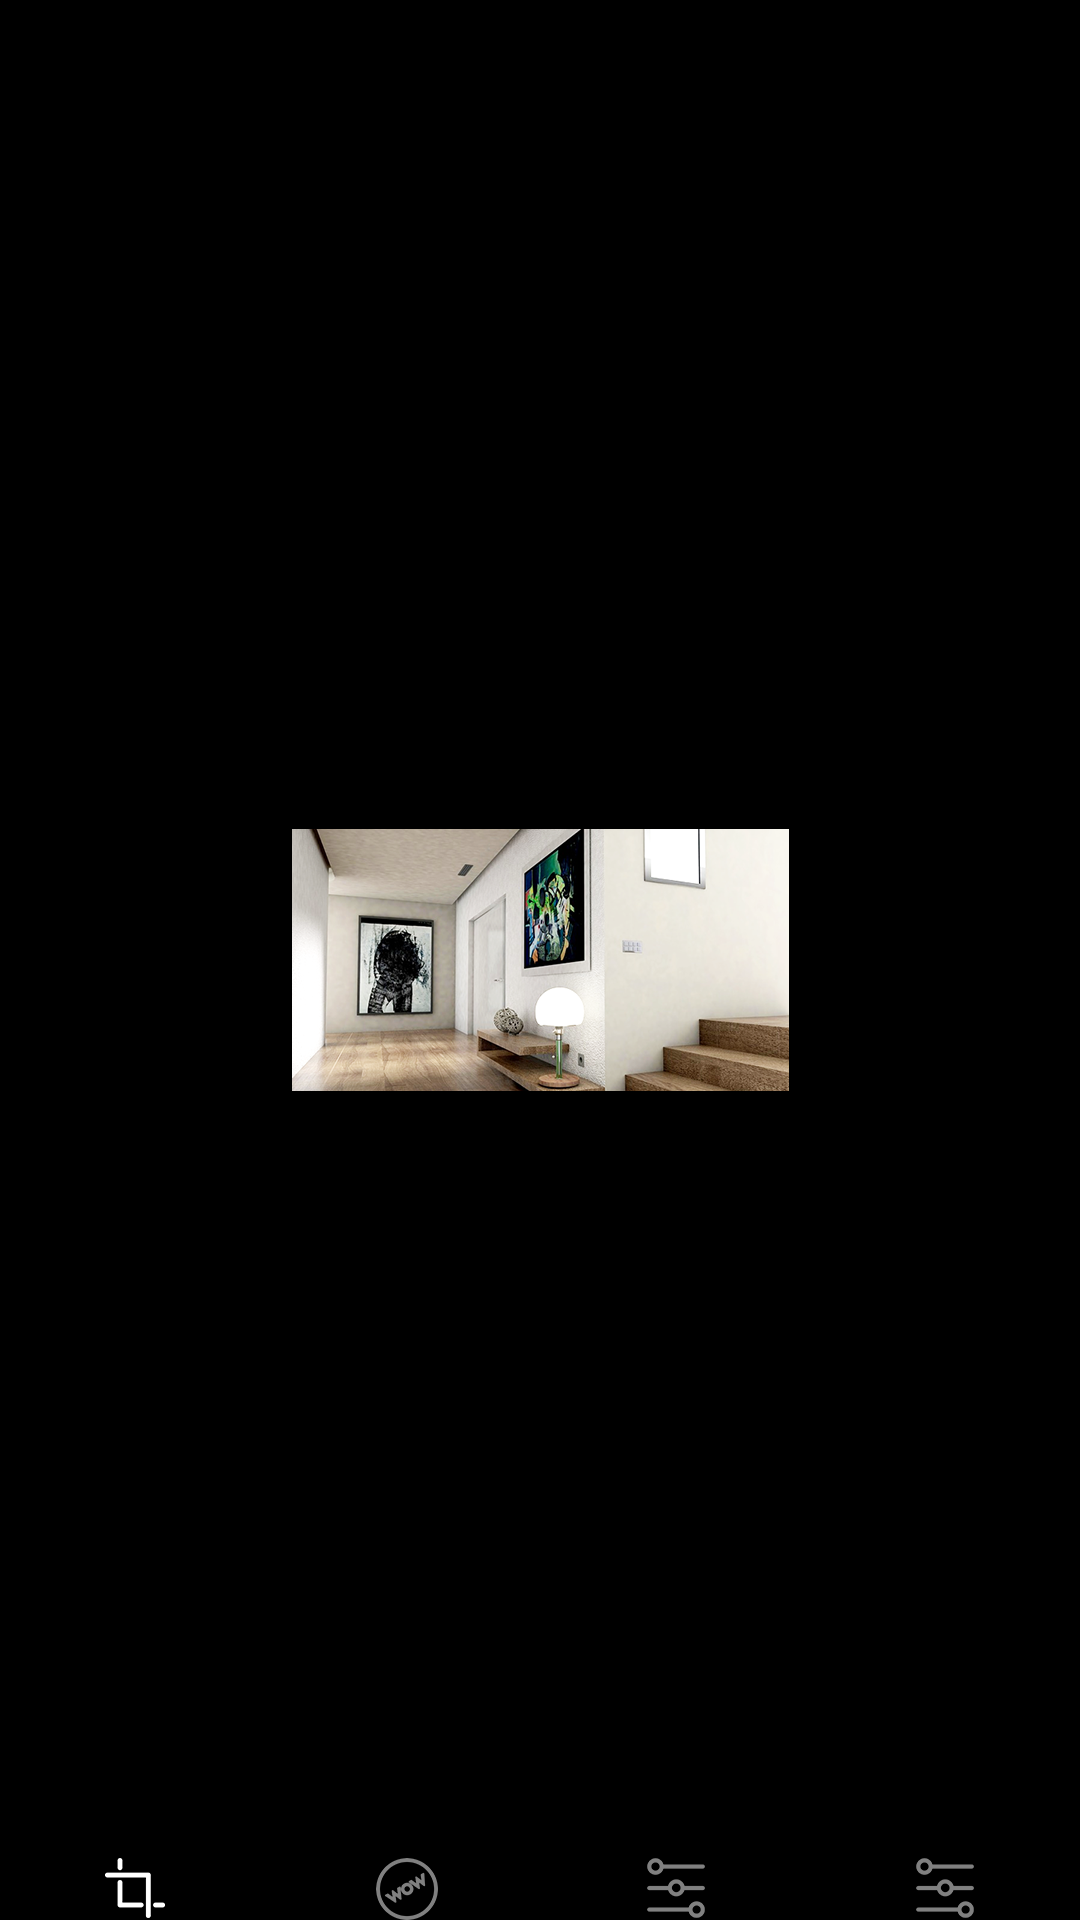

Icon click points for this 1080x1920 phone screenshot, format [x,y]:
crop: [135,1888]
